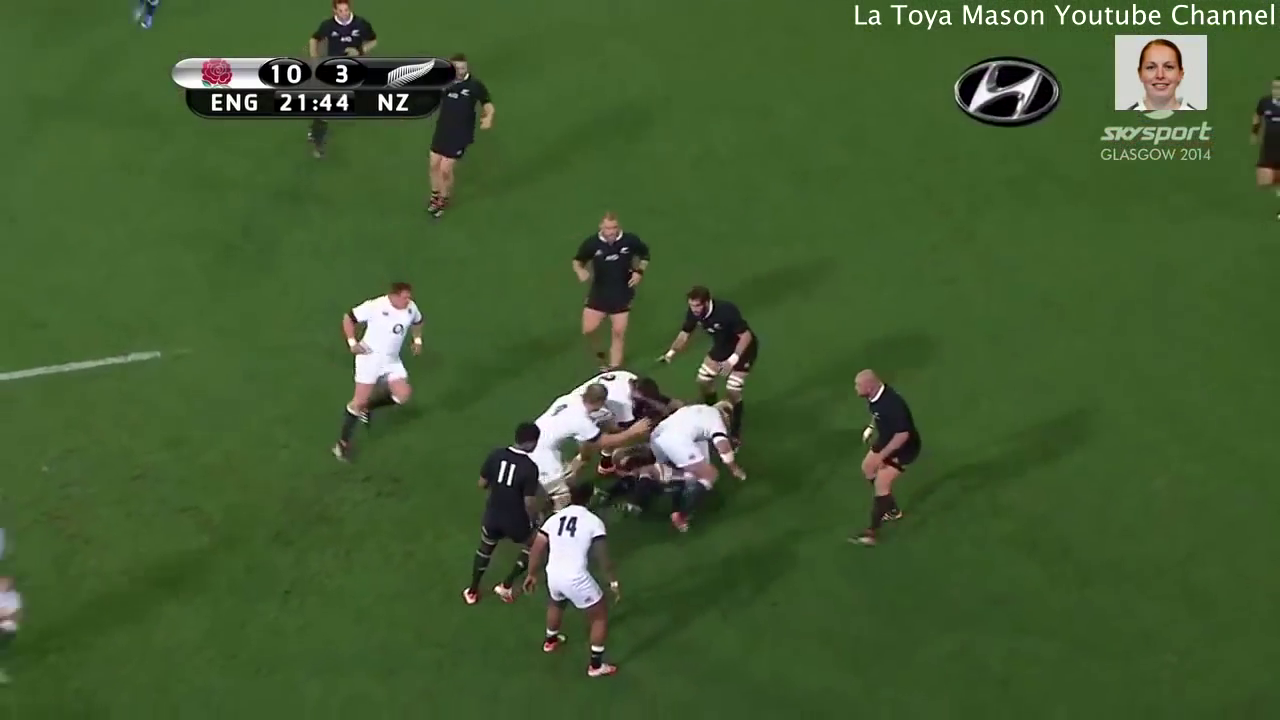player: (524, 470, 633, 694), (321, 257, 432, 468), (453, 413, 552, 620), (650, 273, 771, 442), (826, 352, 927, 553), (560, 194, 657, 387), (498, 367, 617, 511), (639, 388, 746, 534), (292, 1, 384, 168), (422, 44, 501, 223), (543, 360, 680, 430), (1238, 59, 1280, 233)
